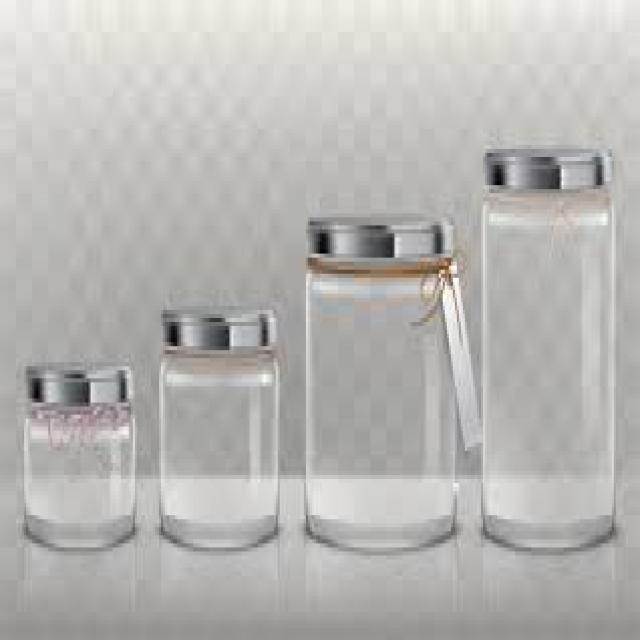Dry Waste: (478, 146, 616, 553), (302, 210, 462, 558), (151, 295, 285, 559), (16, 351, 144, 561)
